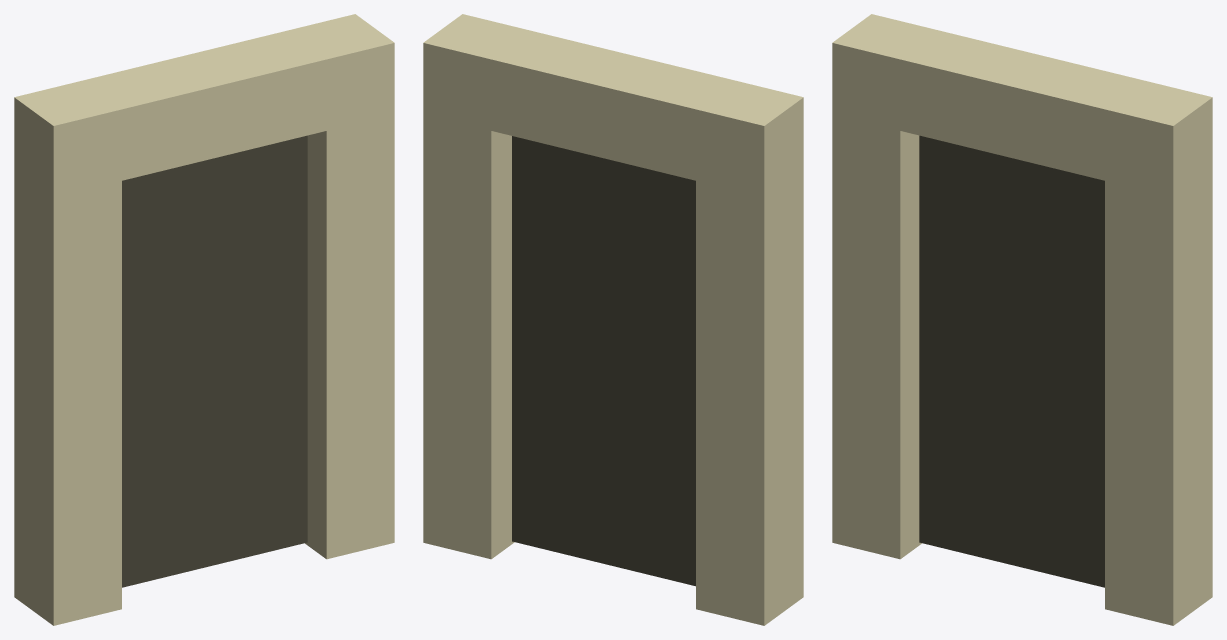
File: Door.fbx
The picture shows the model from 3 angles, left to right: view 1: azimuth 30°, elevation 25°; view 2: azimuth 150°, elevation 25°; view 3: azimuth 330°, elevation 25°; orthographic projection.
Visible parts, largest first — view 1: Door; view 2: Door; view 3: Door.
Part boxes in pixels (x1=…): Door: x1=14, y1=14, x2=394, y2=625; Door: x1=423, y1=14, x2=803, y2=625; Door: x1=832, y1=14, x2=1212, y2=625.
Size of the model in its own units: 500 by 700 by 100.
